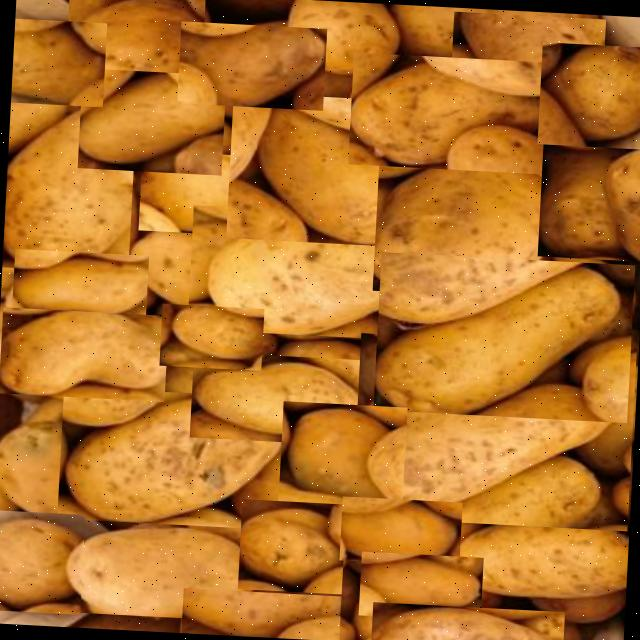Diseased-fungal potato: (57, 386, 298, 530)
Potato: (352, 332, 637, 530), (374, 251, 636, 422), (372, 132, 578, 300), (188, 204, 426, 340), (226, 91, 432, 248), (348, 52, 550, 174), (2, 92, 138, 272), (64, 517, 259, 621), (190, 350, 370, 446), (449, 10, 606, 119), (453, 514, 630, 608), (77, 66, 226, 174), (0, 306, 169, 401), (278, 400, 408, 520), (177, 20, 327, 110), (0, 417, 111, 529), (537, 143, 640, 260), (11, 248, 149, 333), (537, 41, 640, 149), (138, 150, 264, 236), (238, 498, 346, 594), (66, 0, 206, 73), (0, 509, 85, 614), (358, 550, 484, 620), (285, 1, 403, 74), (340, 496, 462, 566), (181, 587, 341, 640), (11, 18, 107, 106), (371, 601, 565, 640), (160, 303, 264, 370)
